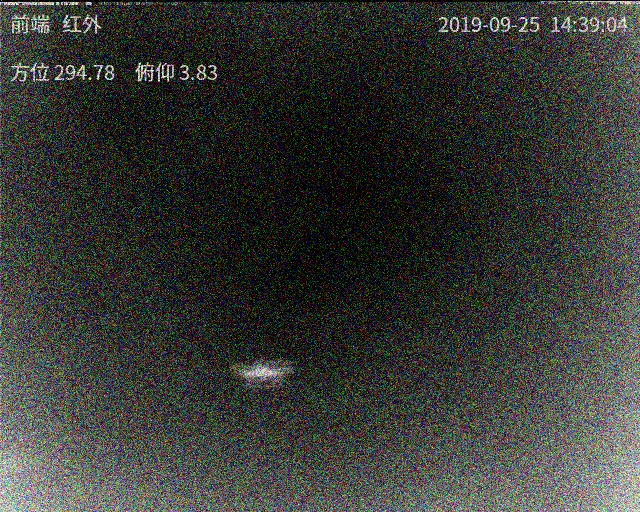uav: (229, 358, 295, 387), (225, 172, 251, 195), (201, 222, 225, 235)
